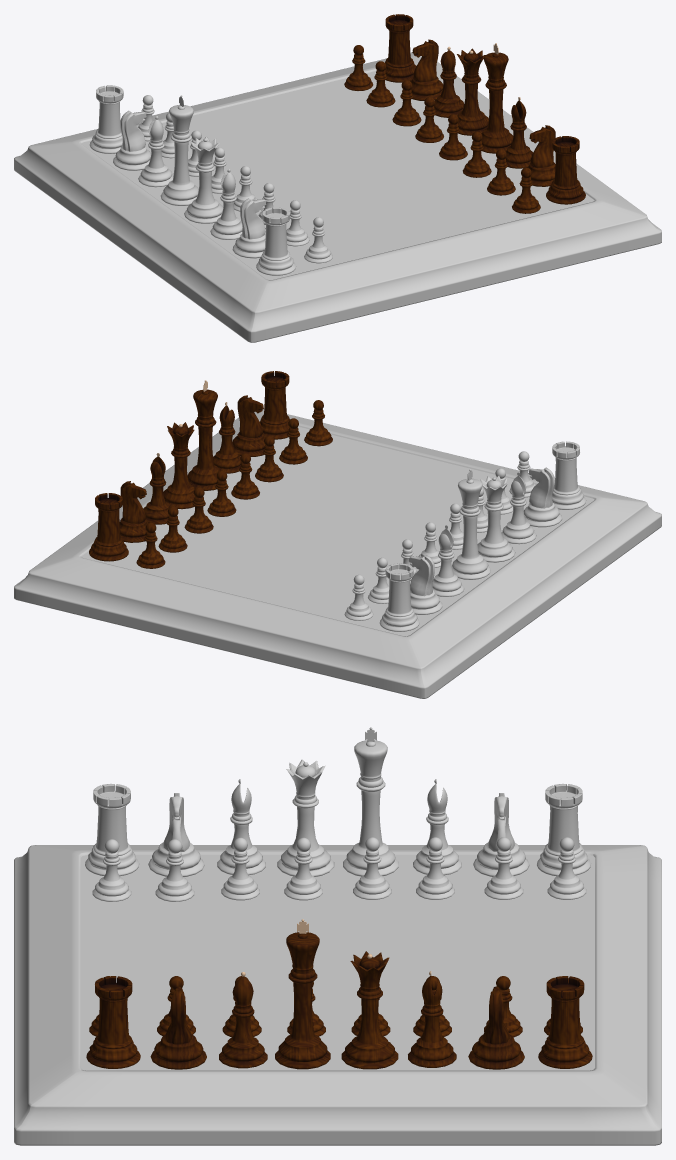
Rendered from uploads_files_3003785_chess_set.fbx.
The picture shows the model from 3 angles, top to bottom: view 1: azimuth 30°, elevation 25°; view 2: azimuth 150°, elevation 25°; view 3: azimuth 270°, elevation 25°; orthographic projection. The views are drawn at different scales.
Parts seen in each view (by area): view 1: chess_board, white_king, black_king, black_rook_2, white_rook_2, white_queen, white_rook_1, black_rook_1, black_queen, white_knight_1, white_knight_2, black_knight_1 (+17 smaller); view 2: chess_board, white_king, black_king, white_rook_1, black_rook_1, white_queen, white_rook_2, black_queen, black_rook_2, white_knight_2, black_knight_2, white_knight_1 (+17 smaller); view 3: chess_board, black_king, white_king, black_queen, black_rook_1, black_rook_2, white_rook_2, white_queen, white_rook_1, black_knight_1, black_knight_2, black_bishop_2 (+14 smaller).
Boxes of the visible parts, left/top/right/bottom form: chess_board: left=14, top=52, right=661, bottom=342; white_king: left=160, top=95, right=198, bottom=205; black_king: left=481, top=43, right=513, bottom=153; black_rook_2: left=546, top=136, right=585, bottom=204; white_rook_2: left=256, top=207, right=296, bottom=275; white_queen: left=184, top=136, right=223, bottom=223; white_rook_1: left=89, top=85, right=123, bottom=153; black_rook_1: left=385, top=14, right=416, bottom=82; black_queen: left=457, top=48, right=488, bottom=135; white_knight_1: left=113, top=110, right=151, bottom=170; white_knight_2: left=232, top=198, right=266, bottom=258; black_knight_1: left=410, top=39, right=443, bottom=100; chess_board: left=14, top=408, right=661, bottom=698; white_king: left=452, top=469, right=490, bottom=579; black_king: left=187, top=380, right=220, bottom=490; white_rook_1: left=379, top=563, right=419, bottom=631; black_rook_1: left=89, top=493, right=128, bottom=561; white_queen: left=477, top=476, right=515, bottom=562; white_rook_2: left=552, top=441, right=586, bottom=509; black_queen: left=163, top=422, right=194, bottom=509; black_rook_2: left=260, top=371, right=289, bottom=439; white_knight_2: left=523, top=467, right=562, bottom=527; black_knight_2: left=232, top=395, right=265, bottom=456; white_knight_1: left=409, top=555, right=442, bottom=614; chess_board: left=14, top=845, right=661, bottom=1145; black_king: left=275, top=919, right=330, bottom=1069; white_king: left=343, top=727, right=398, bottom=876; black_queen: left=341, top=951, right=398, bottom=1069; black_rook_1: left=538, top=976, right=592, bottom=1068; black_rook_2: left=86, top=976, right=140, bottom=1068; white_rook_2: left=85, top=784, right=139, bottom=876; white_queen: left=277, top=759, right=334, bottom=876; white_rook_1: left=537, top=784, right=590, bottom=876; black_knight_1: left=468, top=986, right=524, bottom=1069; black_knight_2: left=150, top=986, right=206, bottom=1069; black_bishop_2: left=219, top=972, right=267, bottom=1068.
Size of the model in its own units: 154 by 48.58 by 154.
